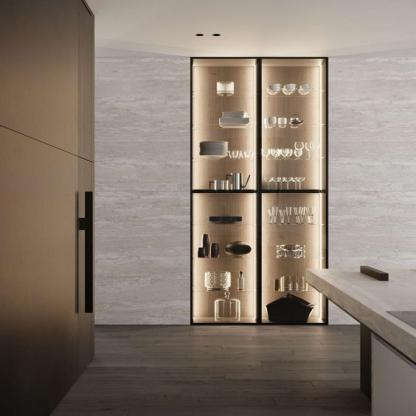Cupboard: (189, 56, 329, 326)
